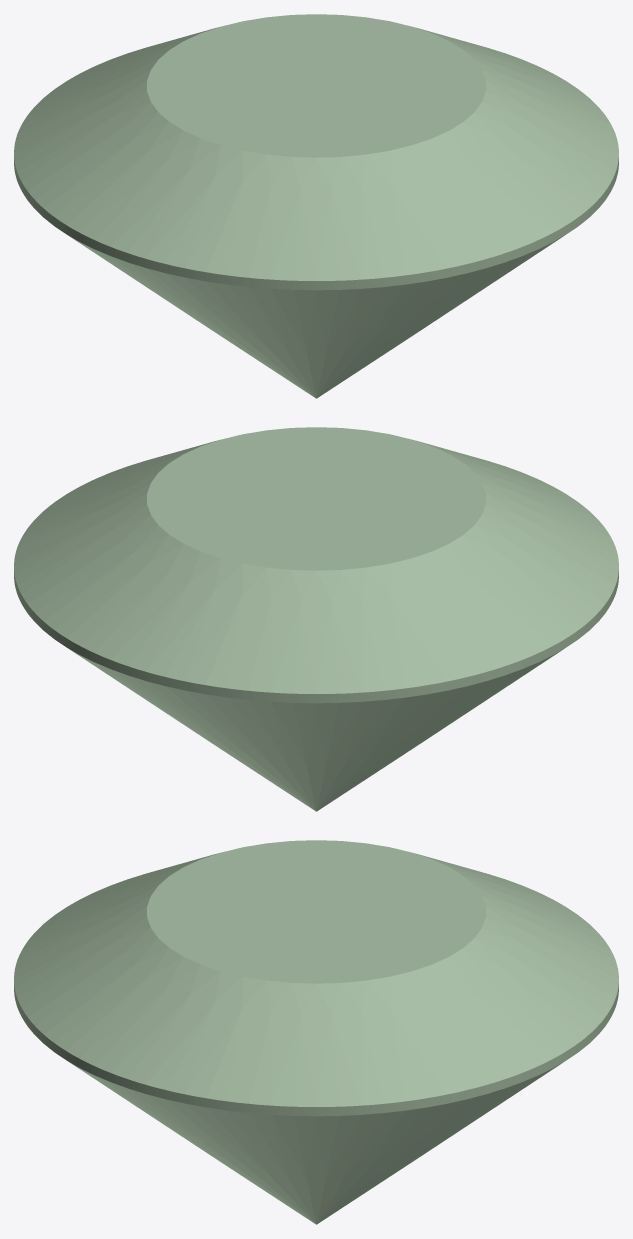
File: gem.glb
3 views of the same model, one above another, from view 1: azimuth 30°, elevation 25°; view 2: azimuth 150°, elevation 25°; view 3: azimuth 270°, elevation 25° (orthographic).
Parts seen in each view (by area): view 1: Gem; view 2: Gem; view 3: Gem.
Part boxes in pixels (<box>): Gem: <box>14,14,618,398</box>; Gem: <box>14,427,618,811</box>; Gem: <box>14,840,618,1224</box>.
Bounding box in the file's own units: 2 × 1.14 × 2.
